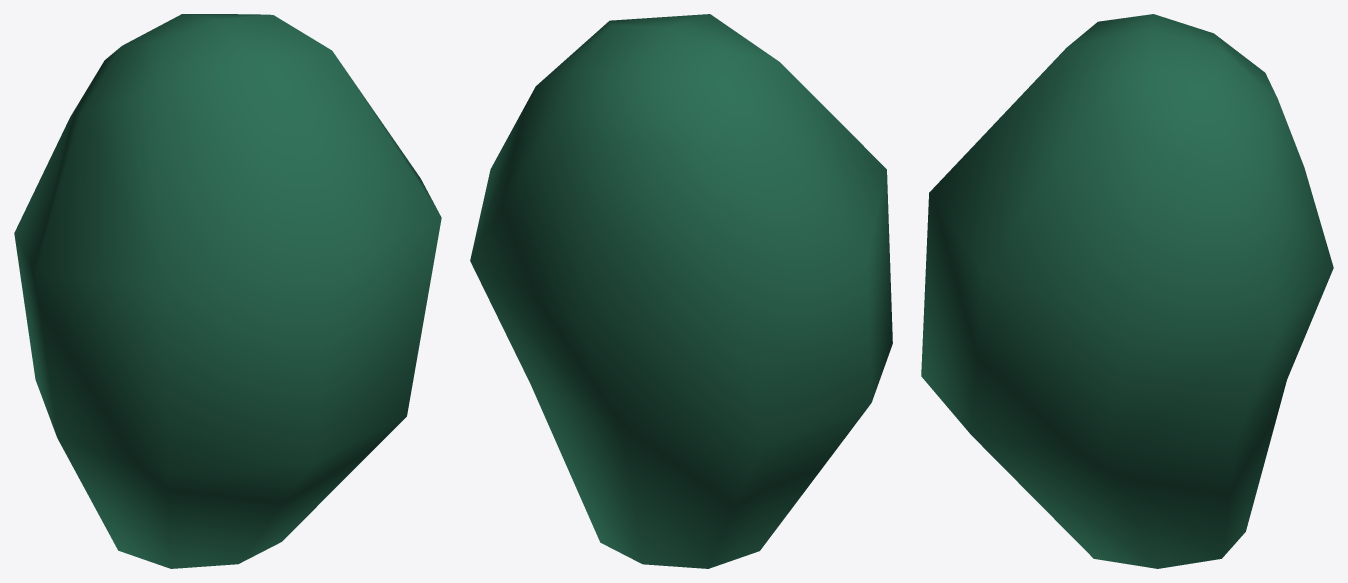
File: cactus_small.fbx
The picture shows the model from 3 angles, left to right: view 1: azimuth 30°, elevation 25°; view 2: azimuth 150°, elevation 25°; view 3: azimuth 270°, elevation 25°; orthographic projection. The views are drawn at different scales.
Parts seen in each view (by area): view 1: Cactus1.002; view 2: Cactus1.002; view 3: Cactus1.002.
Part boxes in pixels (x1,y1,x2,y2): Cactus1.002: (14,14,441,568); Cactus1.002: (470,14,892,568); Cactus1.002: (921,14,1333,568).
Bounding box in the file's own units: 100 × 127 × 92.77.
